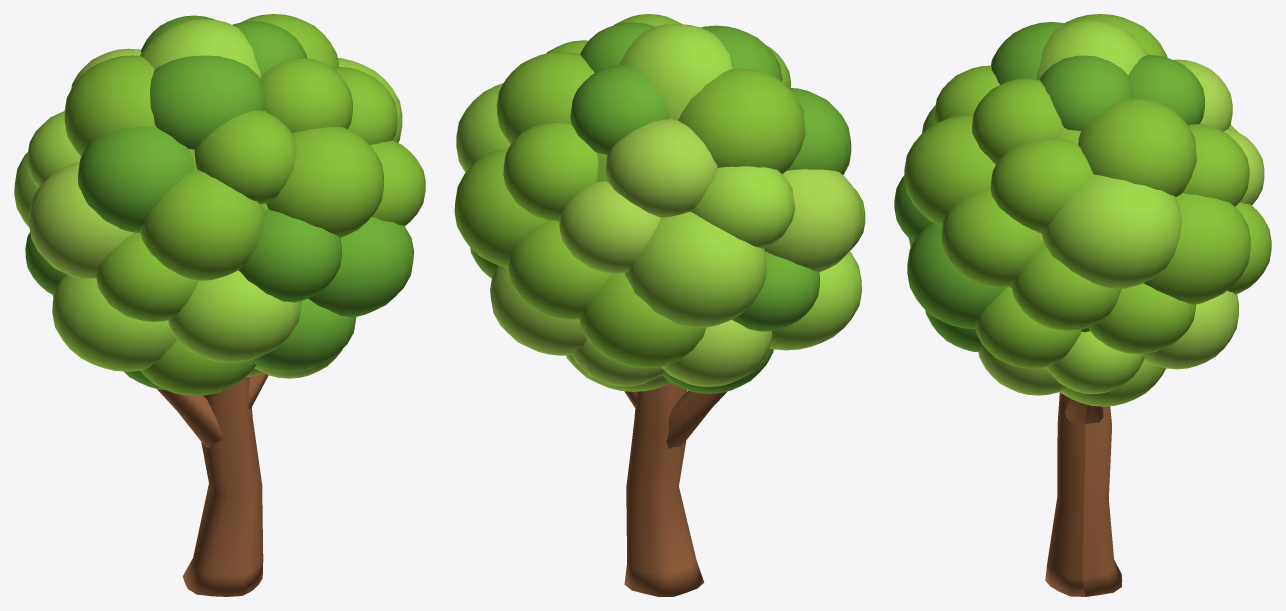
The model's file is arbol-copa-grande.glb.
The picture shows the model from 3 angles, left to right: view 1: azimuth 30°, elevation 25°; view 2: azimuth 150°, elevation 25°; view 3: azimuth 270°, elevation 25°; orthographic projection. The views are drawn at different scales.
Parts seen in each view (by area): view 1: Hojas_verde_manzana, Hojas_verde_pradera, Hojas_verde_lima, Madera_canela, Hojas_verde_claro; view 2: Hojas_verde_manzana, Hojas_verde_claro, Hojas_verde_lima, Hojas_verde_pradera, Madera_canela; view 3: Hojas_verde_manzana, Hojas_verde_lima, Hojas_verde_pradera, Madera_canela, Hojas_verde_claro.
Boxes of the visible parts, x1,y1,x2,y2 form: Hojas_verde_manzana: [64, 14, 425, 395]; Hojas_verde_pradera: [25, 15, 413, 389]; Hojas_verde_lima: [14, 19, 402, 377]; Madera_canela: [157, 373, 268, 596]; Hojas_verde_claro: [29, 48, 342, 378]; Hojas_verde_manzana: [454, 14, 865, 368]; Hojas_verde_claro: [490, 119, 861, 386]; Hojas_verde_lima: [456, 24, 861, 391]; Hojas_verde_pradera: [570, 22, 850, 393]; Madera_canela: [624, 383, 727, 596]; Hojas_verde_manzana: [904, 14, 1271, 368]; Hojas_verde_lima: [909, 20, 1238, 406]; Hojas_verde_pradera: [894, 22, 1204, 352]; Madera_canela: [1045, 392, 1122, 596]; Hojas_verde_claro: [978, 59, 1264, 395].
Bounding box in the file's own units: 2.63 × 3.76 × 2.35.
